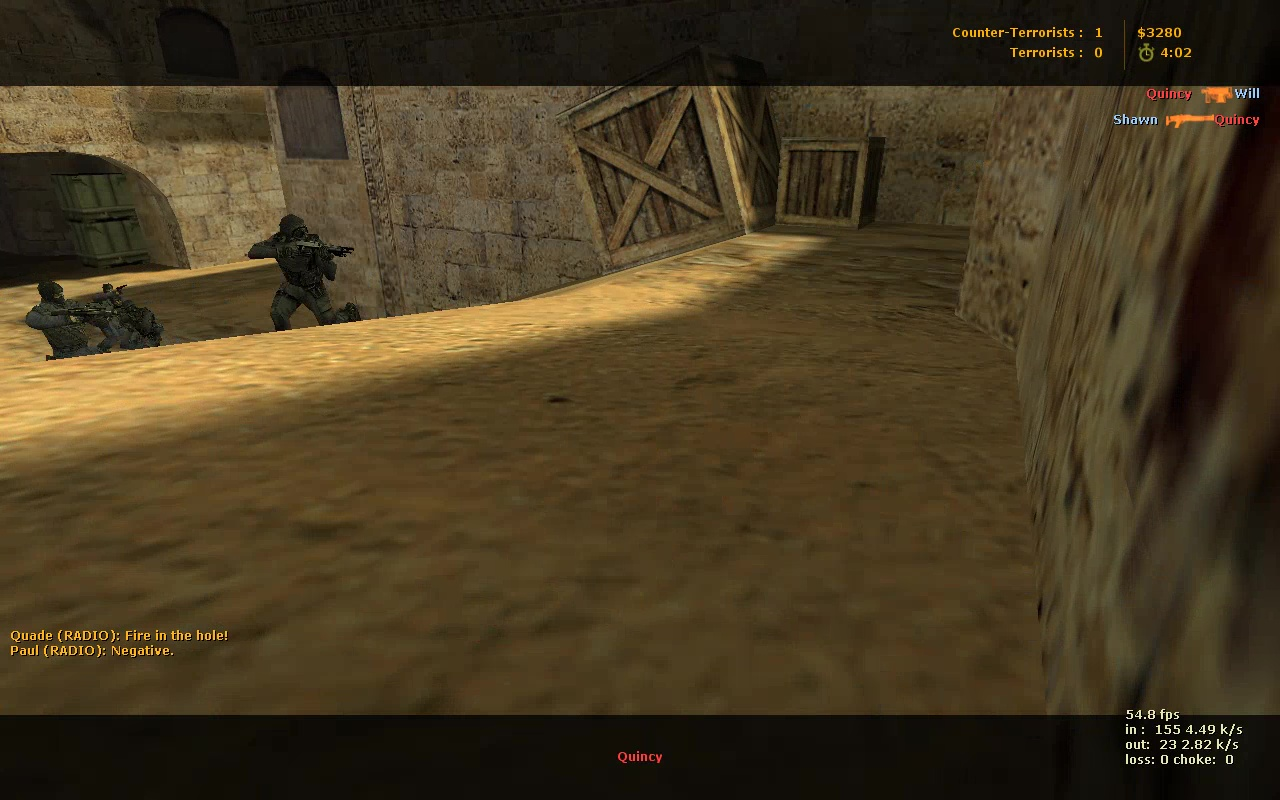ct: (247, 212, 368, 331), (23, 280, 110, 354)
